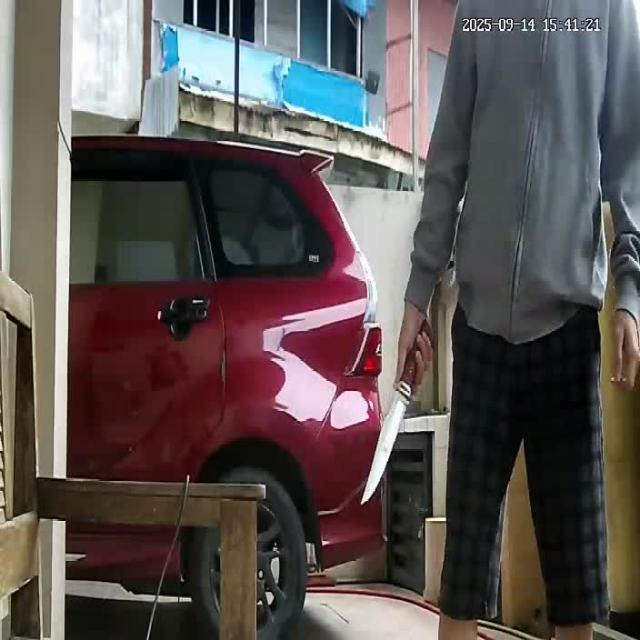senjata_tajam: (358, 379, 413, 511)
